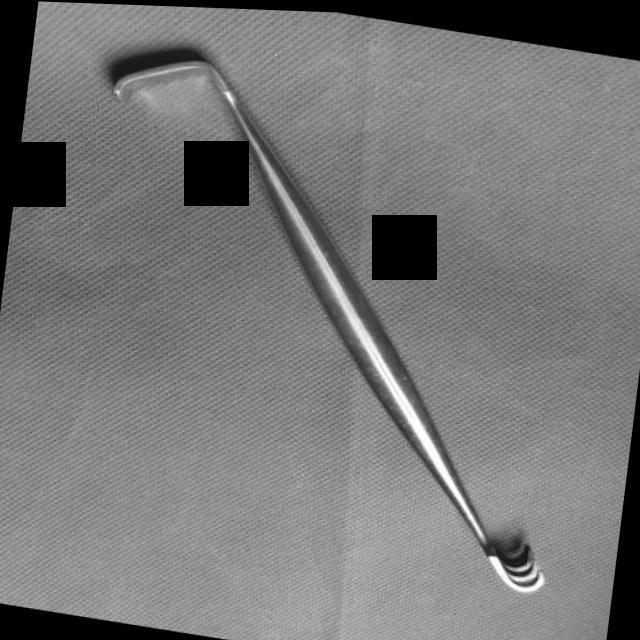Senn Retractor: (46, 37, 606, 605)
